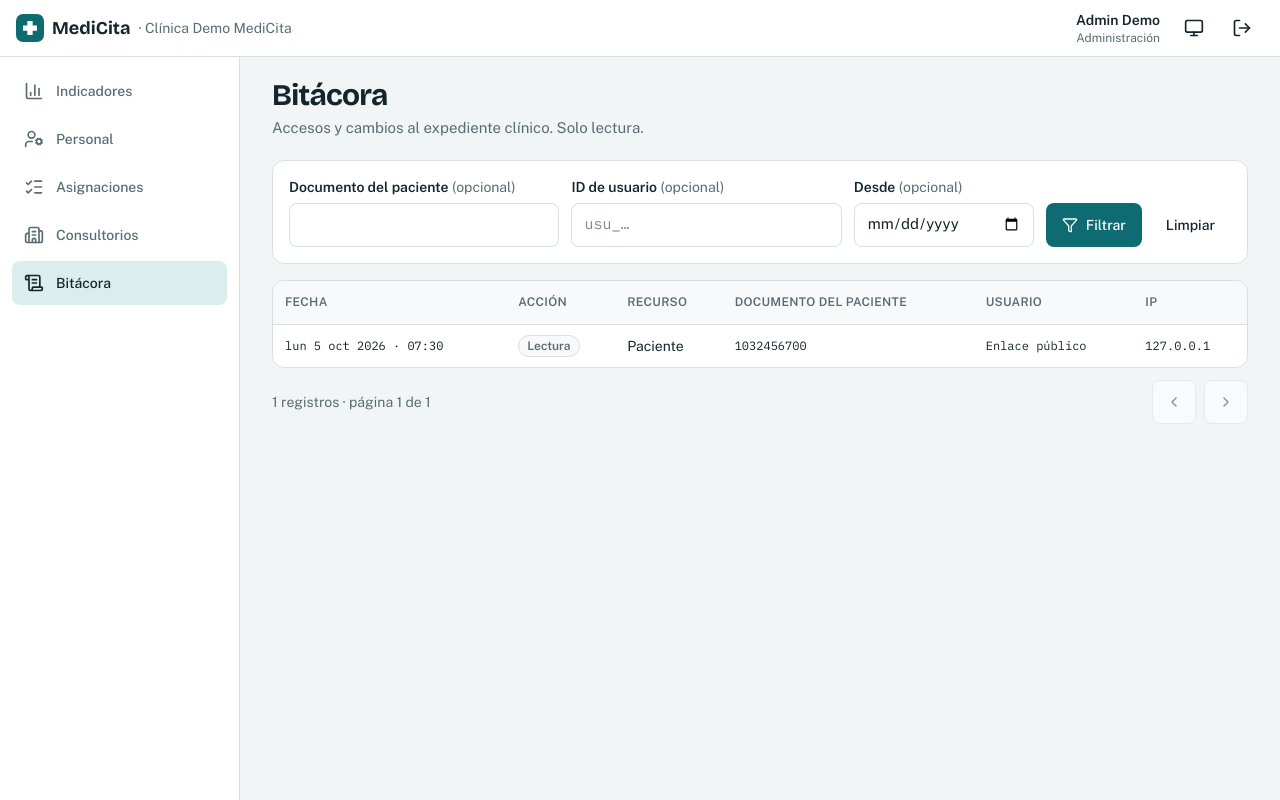
Test: bitácora del administrador › muestra el documento, filtra por documento y permite limpiar el filtro
Check: the table named "Registros de auditoría" is shown, box 273,280 -> 1247,367
Check: the cell "1032456700" is shown, box 723,324 -> 974,367
Type "1032456700" into the field labelled "Documento del paciente (opcional)" at (424, 224), box 289,202 -> 559,246
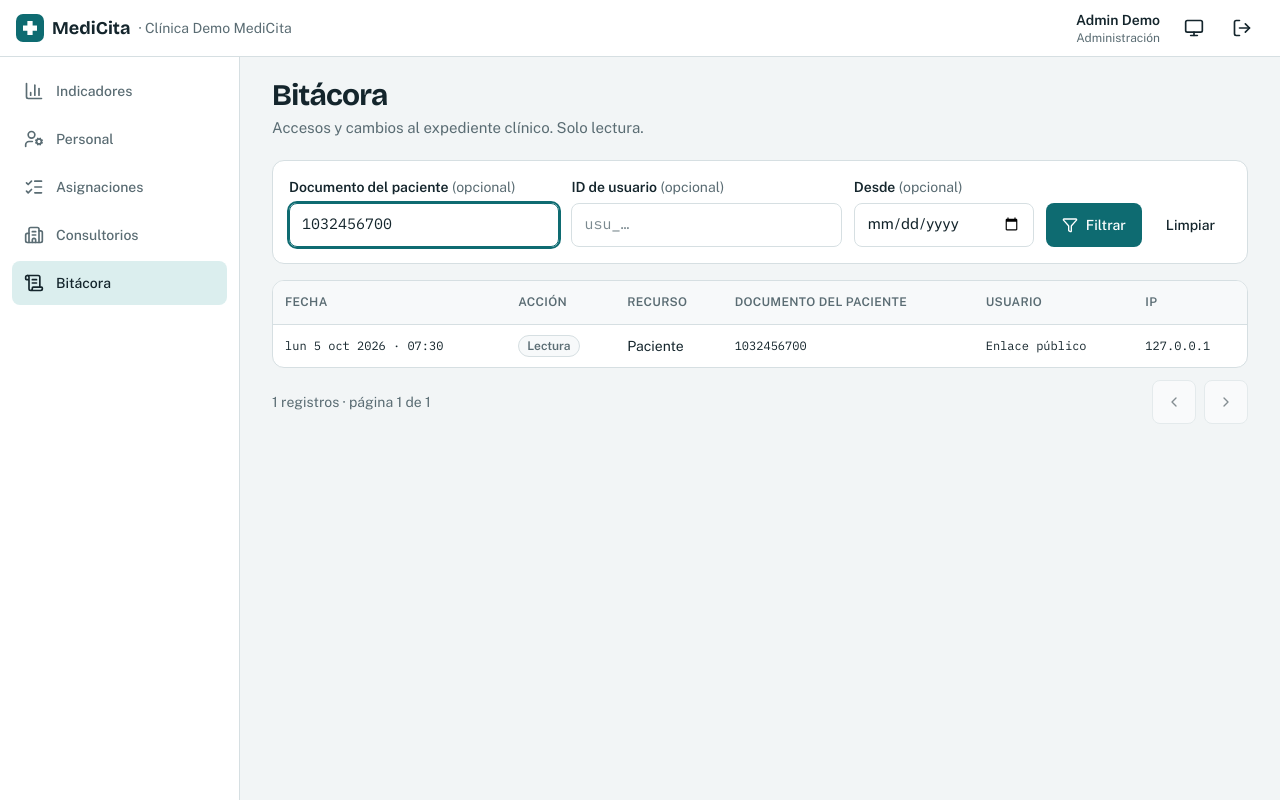
Click the button "Filtrar" at (1094, 224), box 1046,202 -> 1142,246
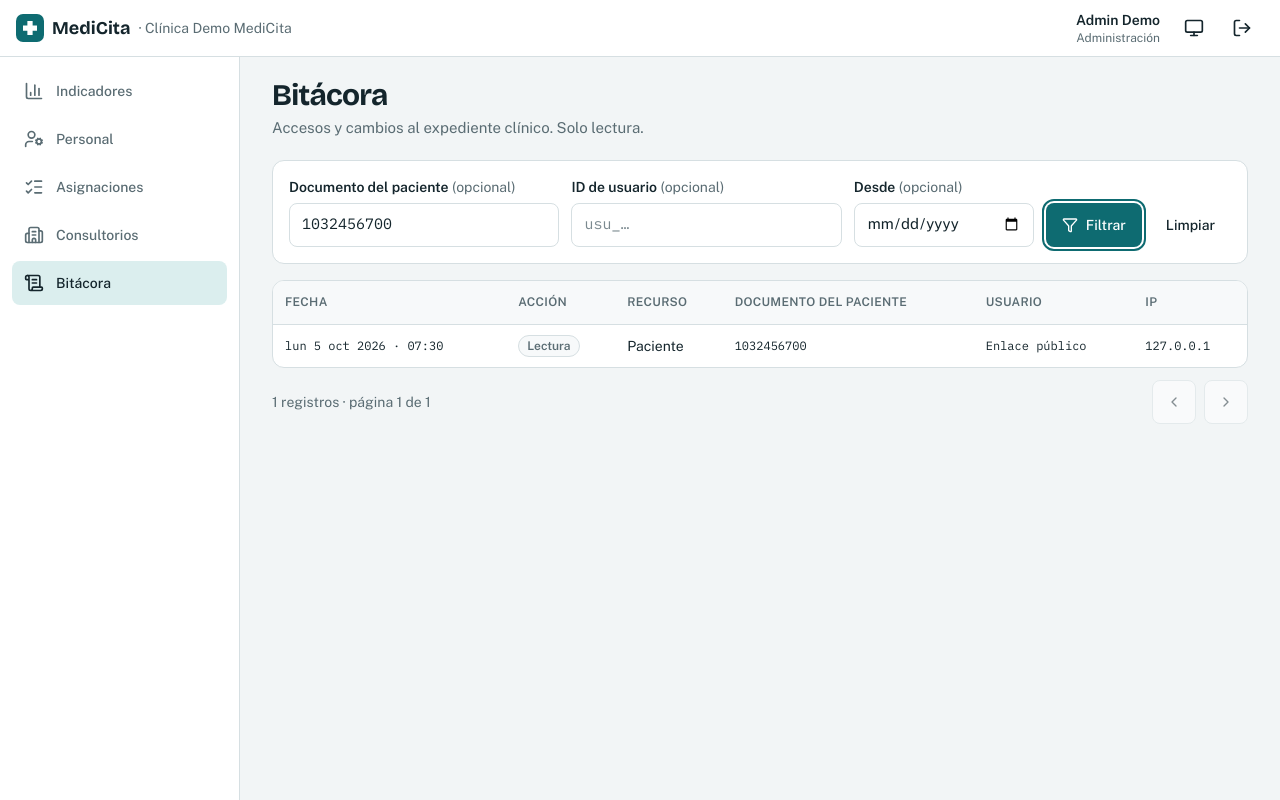
Check: the table is shown, box 273,280 -> 1247,367
Replace the text in the field labelled "Documento del paciente (opcional)" with "documento-inexistente" at (424, 224), box 289,202 -> 559,246
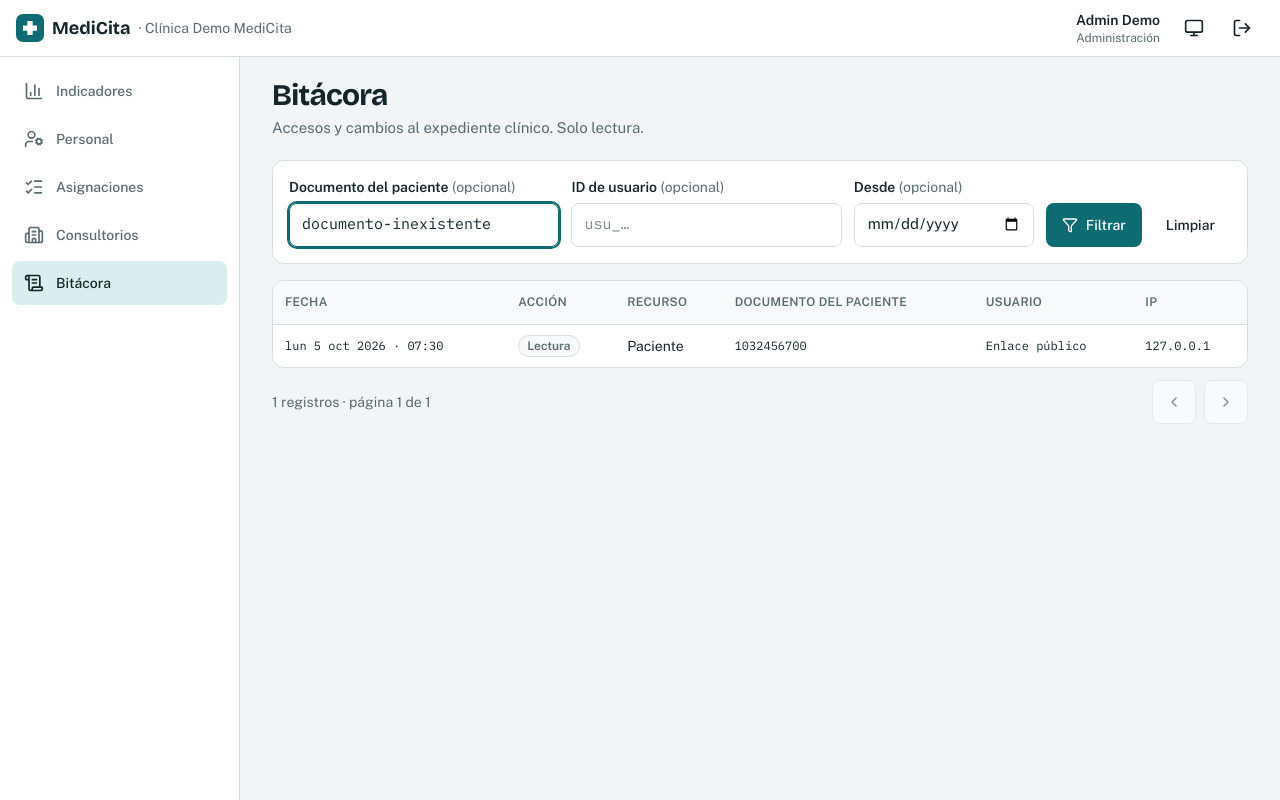
Click the button "Filtrar" at (1094, 224), box 1046,202 -> 1142,246
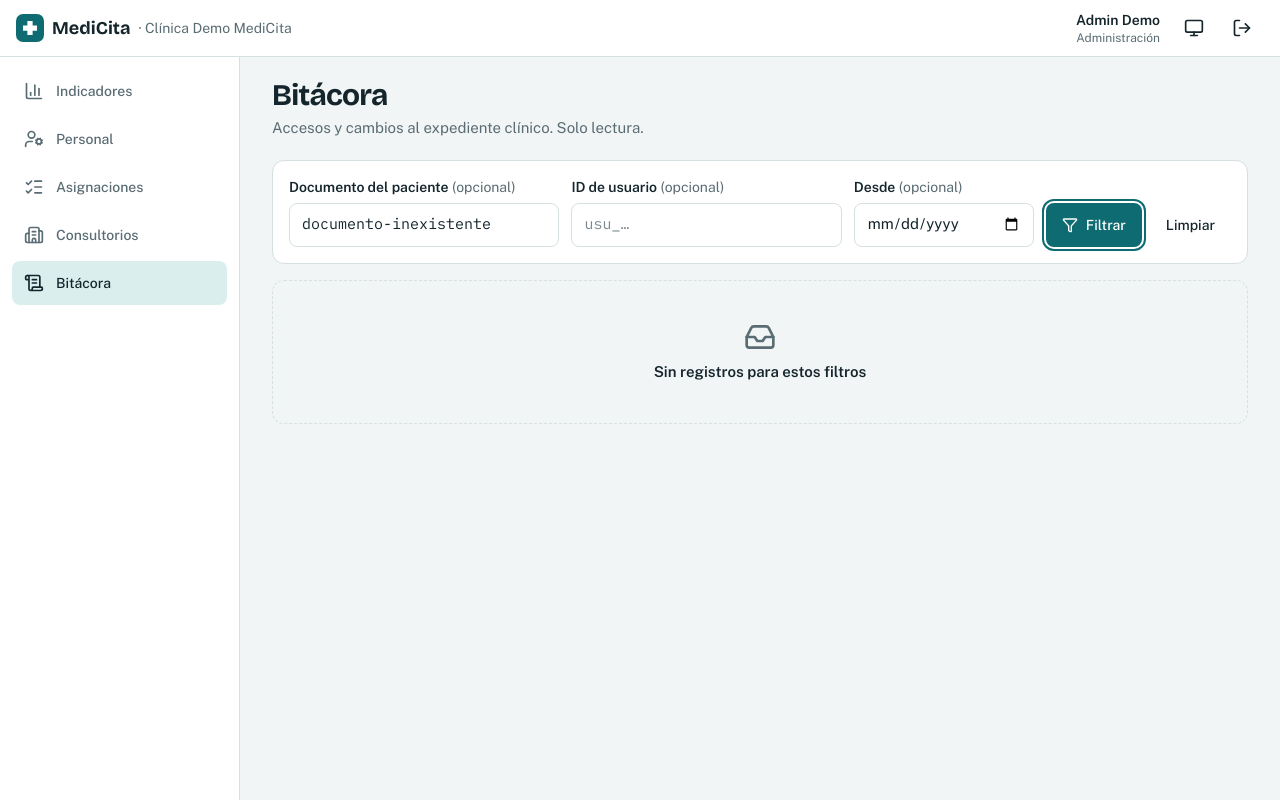
Check: the text "Sin registros para estos filtros" is shown, box 654,360 -> 866,383
Click the button "Limpiar" at (1190, 224), box 1150,202 -> 1231,246
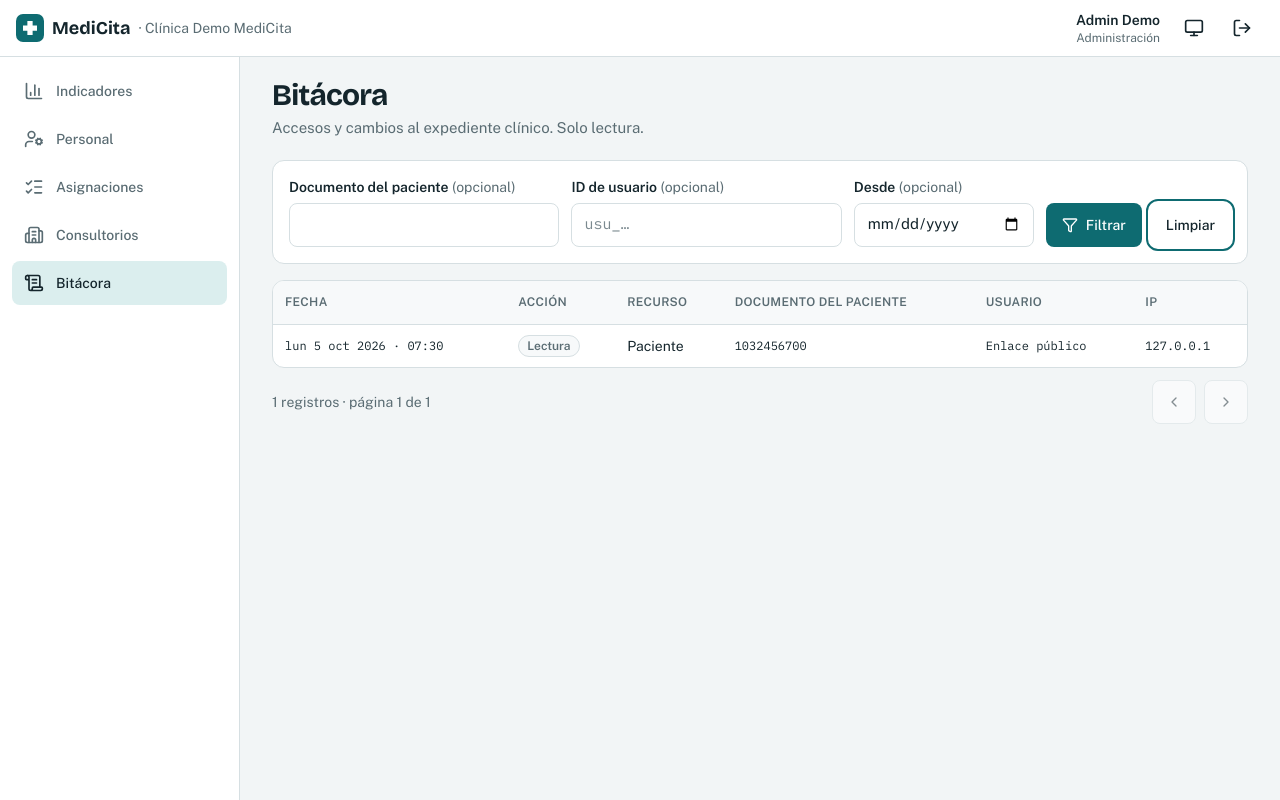
Check: the table is shown, box 273,280 -> 1247,367
